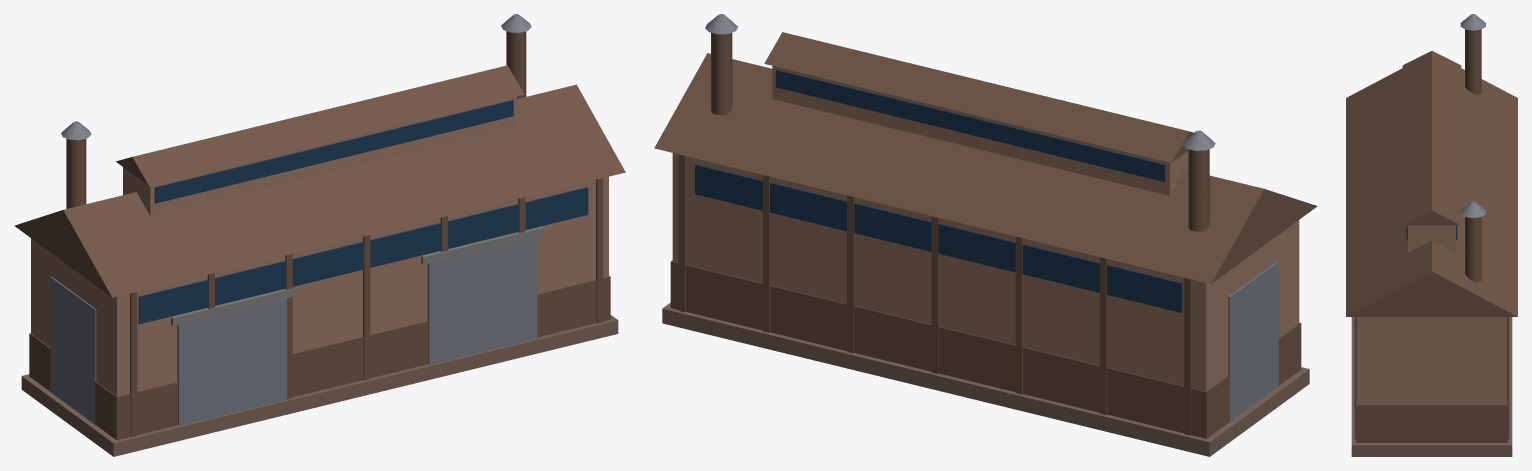
The model's file is mashup-shed-mid-prebuilt.fbx.
The picture shows the model from 3 angles, left to right: view 1: azimuth 30°, elevation 25°; view 2: azimuth 150°, elevation 25°; view 3: azimuth 270°, elevation 25°; orthographic projection. The views are drawn at different scales.
Visible parts, largest first — view 1: a1023.Shed; view 2: a1023.Shed; view 3: a1023.Shed.
Part boxes in pixels (box(x1,y1,x2,y2)): a1023.Shed: box(14, 14, 625, 456); a1023.Shed: box(654, 14, 1317, 456); a1023.Shed: box(1346, 14, 1517, 456).
Size of the model in its own units: 23.8 by 12.2 by 7.9.
